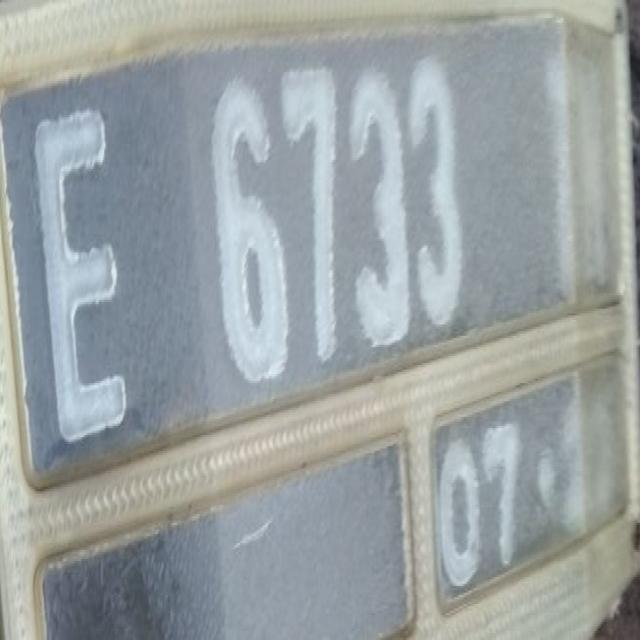plate: (0, 16, 639, 622)
